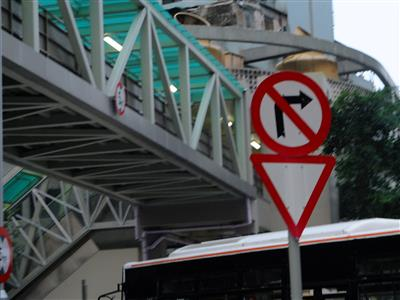noRightTurn: (249, 69, 332, 155)
yield: (247, 150, 338, 244)
